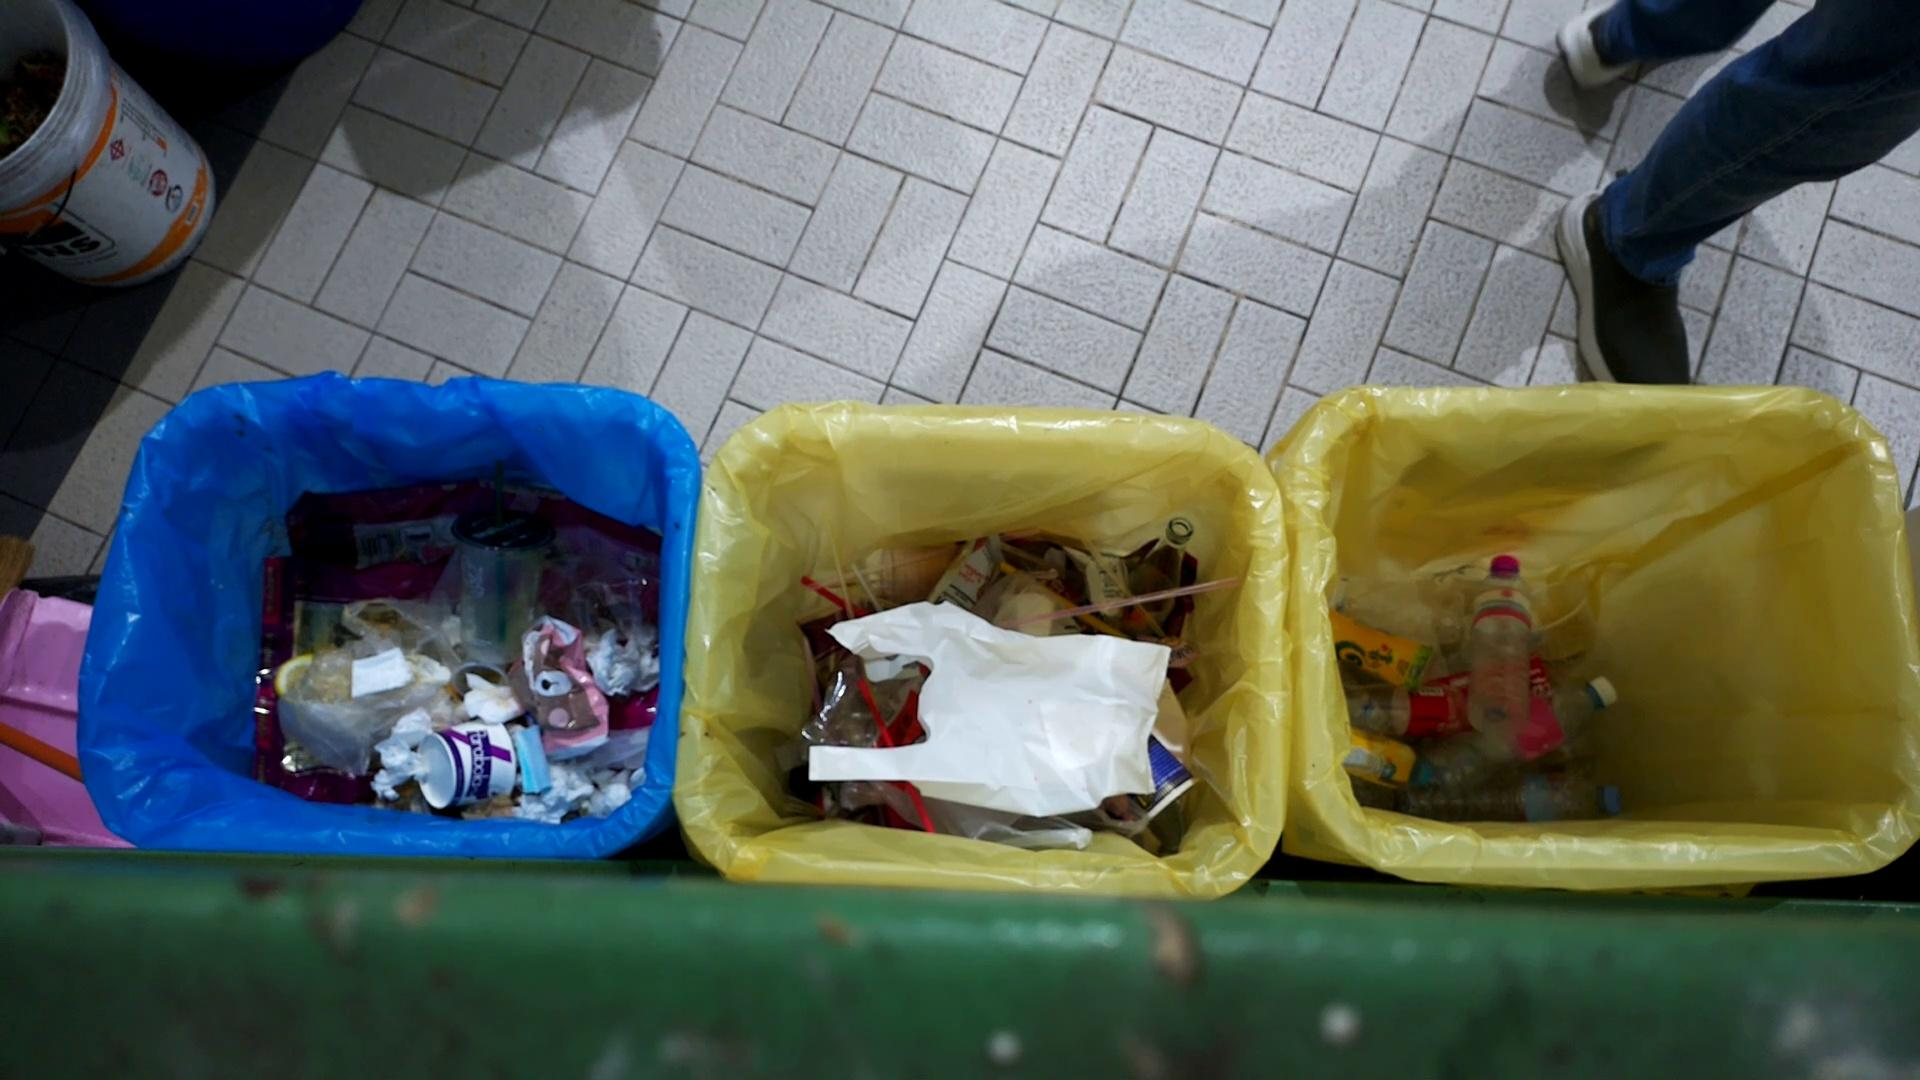filled plastic bag: (268, 582, 473, 770)
food container: (410, 707, 518, 812)
plastic bag: (800, 595, 1159, 816)
plastic bottle: (1473, 674, 1622, 769), (1464, 545, 1535, 741), (1320, 568, 1465, 647), (1445, 766, 1639, 822), (1328, 599, 1423, 702), (1341, 680, 1472, 741), (1338, 725, 1433, 793)
plastic cup: (447, 502, 556, 665), (1501, 572, 1625, 704)
snack packaging: (508, 612, 616, 766)
straw: (1039, 522, 1188, 666), (992, 578, 1232, 632), (812, 541, 968, 580), (988, 534, 1088, 582), (491, 458, 514, 646), (823, 514, 855, 613), (847, 560, 884, 613), (802, 575, 851, 609)
tissue paper: (344, 644, 418, 702), (377, 707, 434, 782), (459, 670, 526, 733), (588, 625, 638, 699), (529, 754, 592, 811), (510, 721, 553, 795), (582, 765, 640, 818), (368, 765, 417, 800), (638, 628, 662, 698), (514, 794, 568, 824)
